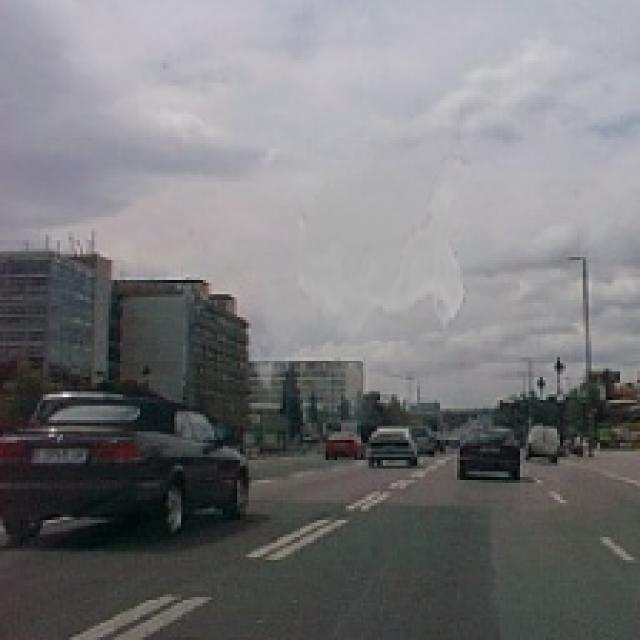smoke: (246, 148, 471, 426)
